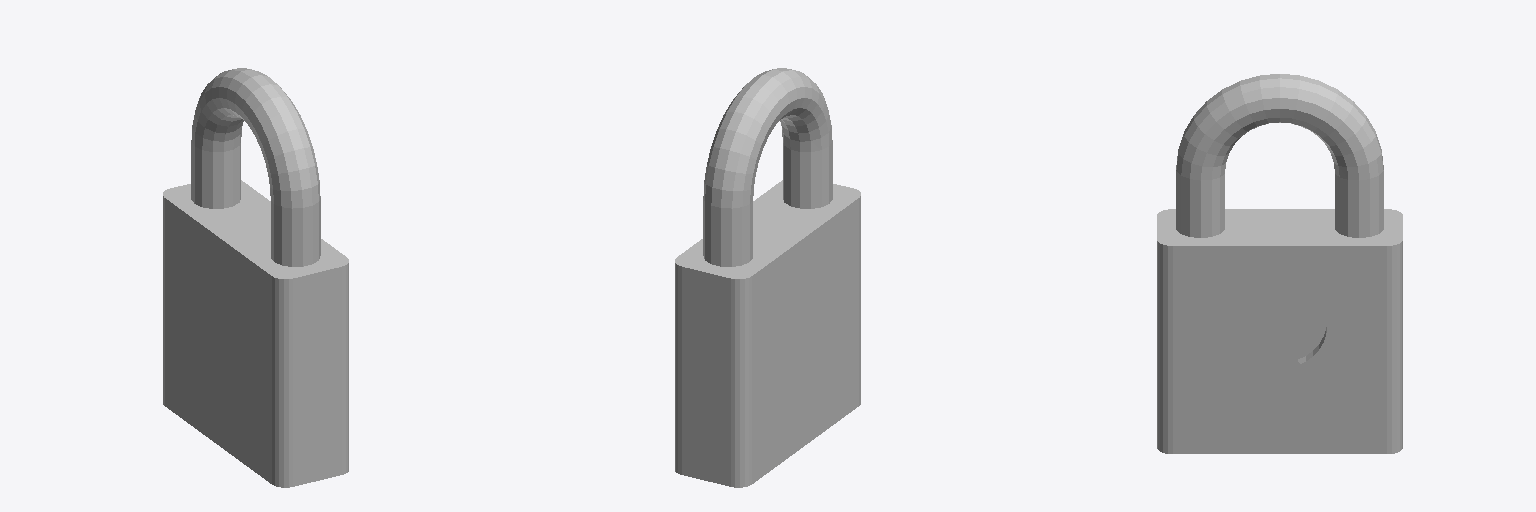
File: lock.obj
3 views of the same model, side by side, from view 1: azimuth 30°, elevation 25°; view 2: azimuth 150°, elevation 25°; view 3: azimuth 270°, elevation 25° (orthographic).
Visible parts, largest first — view 1: Cube_Cube.001, Cylinder_Cylinder.002; view 2: Cube_Cube.001, Cylinder_Cylinder.002; view 3: Cube_Cube.001, Cylinder_Cylinder.002.
Part boxes in pixels (x1,y1,x2,y2): Cube_Cube.001: (163, 180, 348, 487); Cylinder_Cylinder.002: (191, 68, 320, 266); Cube_Cube.001: (675, 180, 860, 487); Cylinder_Cylinder.002: (703, 68, 832, 266); Cube_Cube.001: (1157, 209, 1402, 453); Cylinder_Cylinder.002: (1176, 74, 1383, 237).
Size of the model in its own units: 0.7102 by 3.23 by 2.